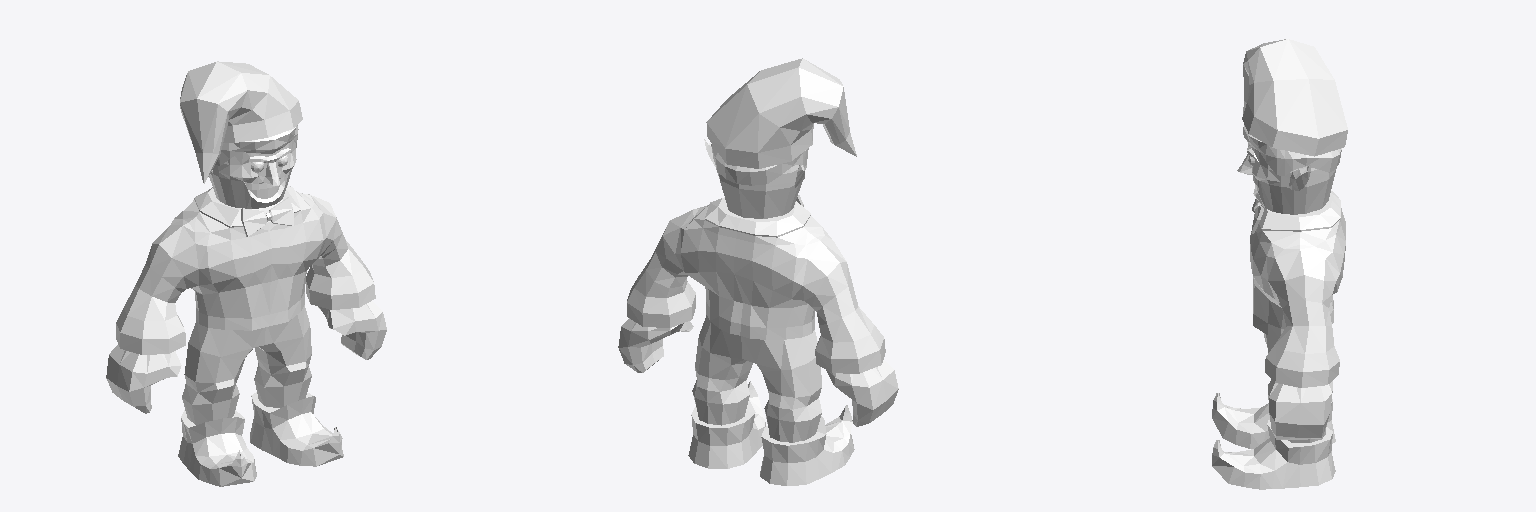
Rendered from AnnoyingElfFinsurf.obj.
The picture shows the model from 3 angles: view 1: azimuth 30°, elevation 25°; view 2: azimuth 150°, elevation 25°; view 3: azimuth 270°, elevation 25°; orthographic projection.
Parts seen in each view (by area): view 1: Handle1; view 2: Handle1; view 3: Handle1.
Part boxes in pixels (left/top/right/bottom): Handle1: left=106, top=61, right=386, bottom=486; Handle1: left=618, top=58, right=898, bottom=485; Handle1: left=1212, top=39, right=1347, bottom=489.
Bounding box in the file's own units: 1.74 × 2.58 × 0.7985.